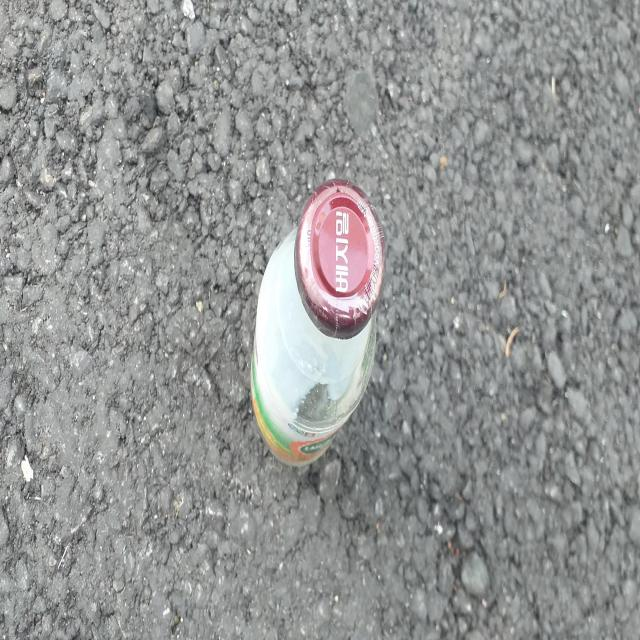glass: (251, 178, 385, 465)
